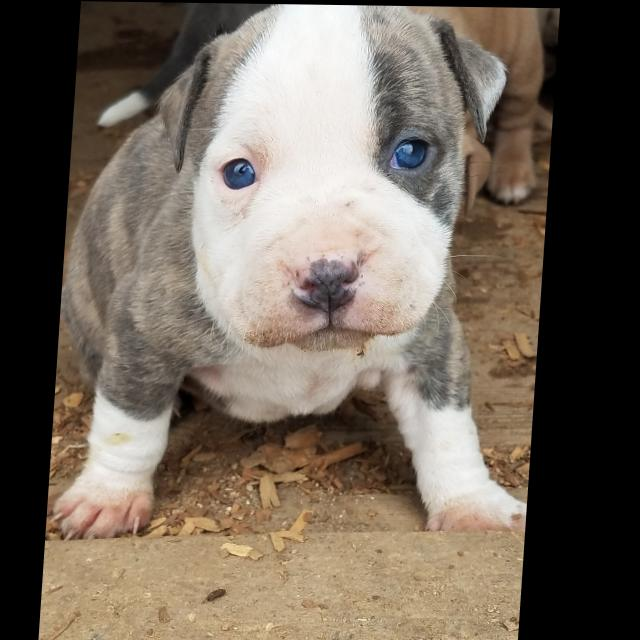am_pit_bull_terrier: (53, 2, 561, 546)
